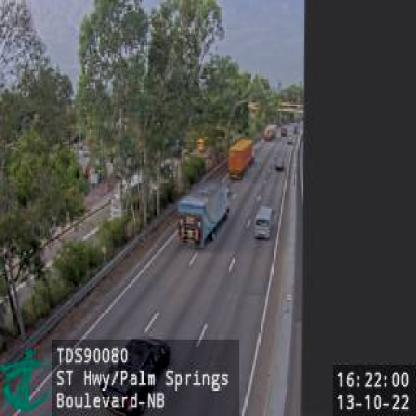Bus: (228, 140, 254, 180)
Car: (255, 204, 274, 240), (275, 158, 285, 171)
Truck: (176, 179, 232, 249)
